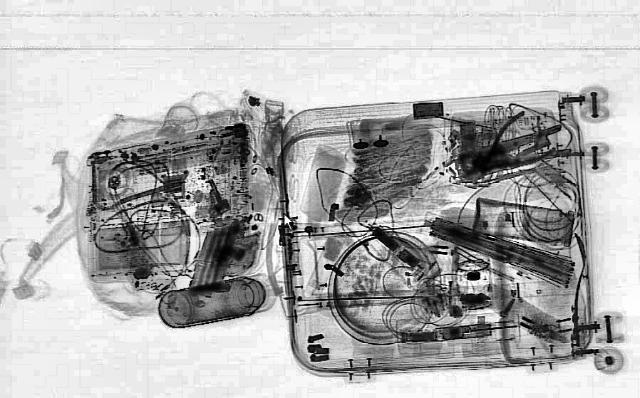Pliers: (442, 104, 584, 186), (448, 122, 584, 184)
